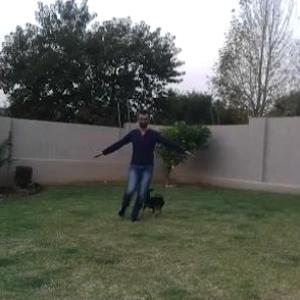land: (101, 114, 199, 229)
